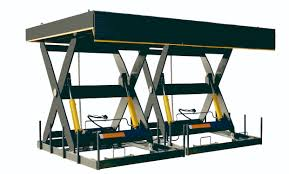Scissor Lift: (24, 9, 276, 171)
